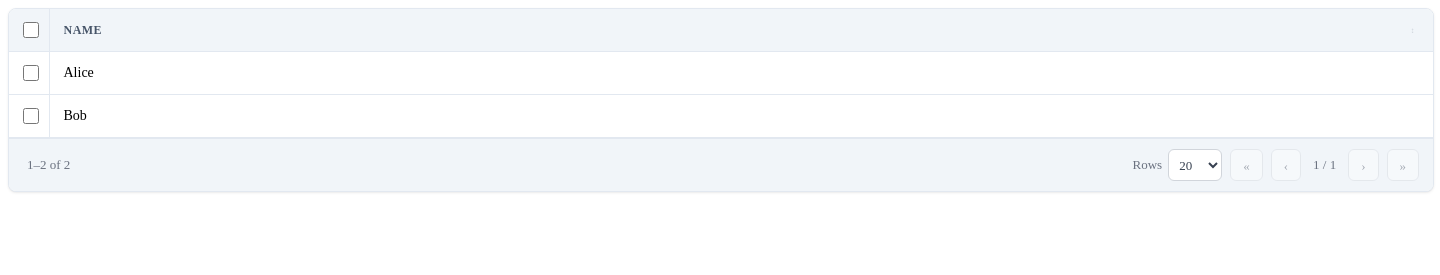
Test: DataGrid — toolbar › renders correct plural for multiple selected rows
The image size is (1440, 275).
Click the checkbox named "Select all".
click(31, 30)  # box left=23, top=22, right=39, bottom=38
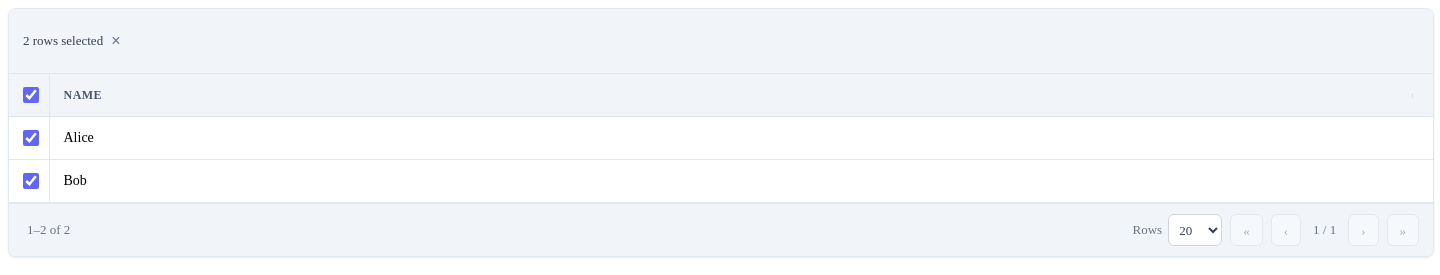
Result: the text "2 rows selected ×" is shown at left=23, top=33, right=122, bottom=49
